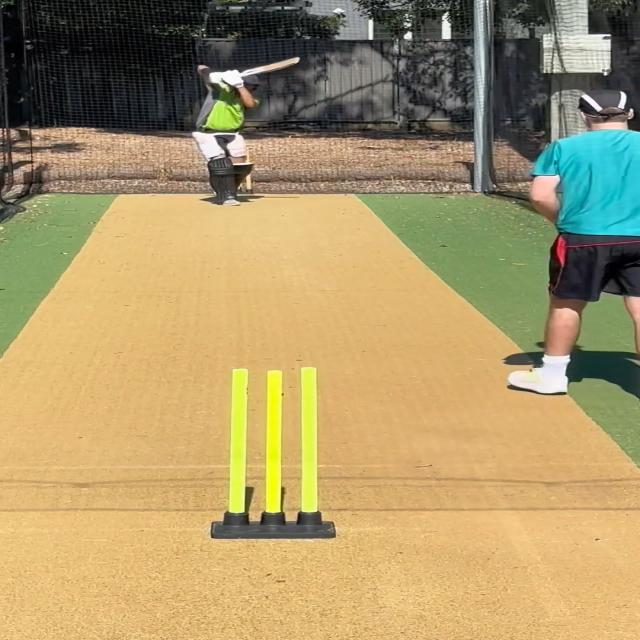stump: (208, 365, 338, 540)
